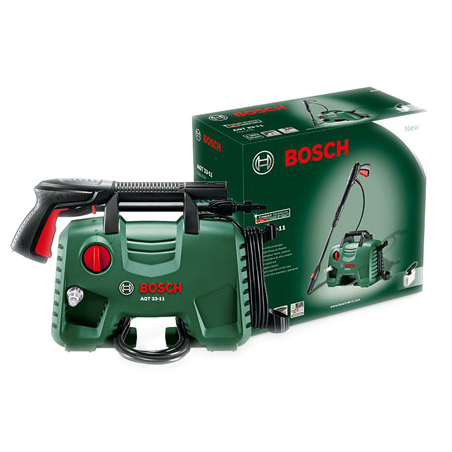Bosch: (278, 139, 365, 174), (226, 99, 294, 122), (137, 280, 187, 297), (199, 129, 230, 155)
